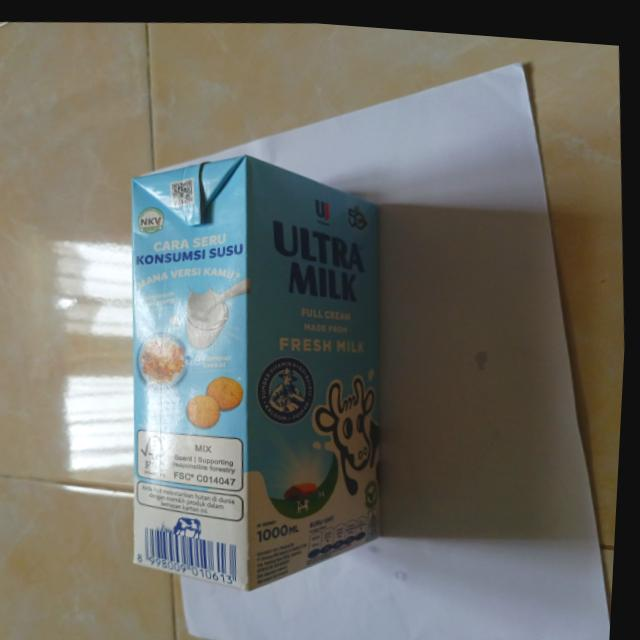indomie-mie-kocok-bandung: (104, 132, 414, 603)
